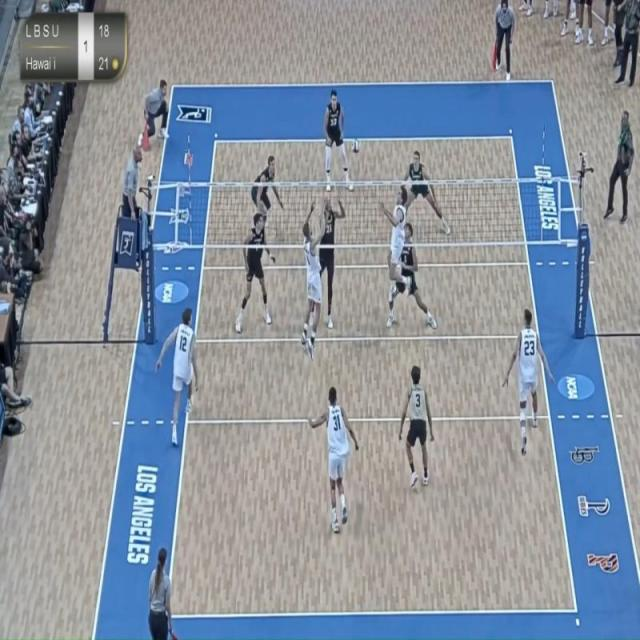volleyball: (348, 132, 362, 156)
